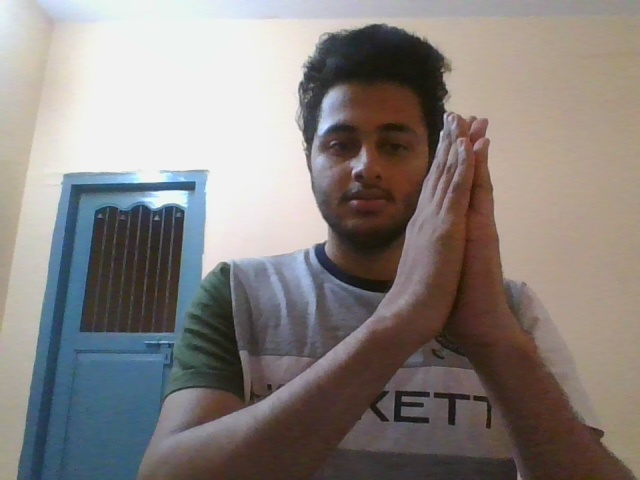Namaskara: (394, 108, 511, 365)
